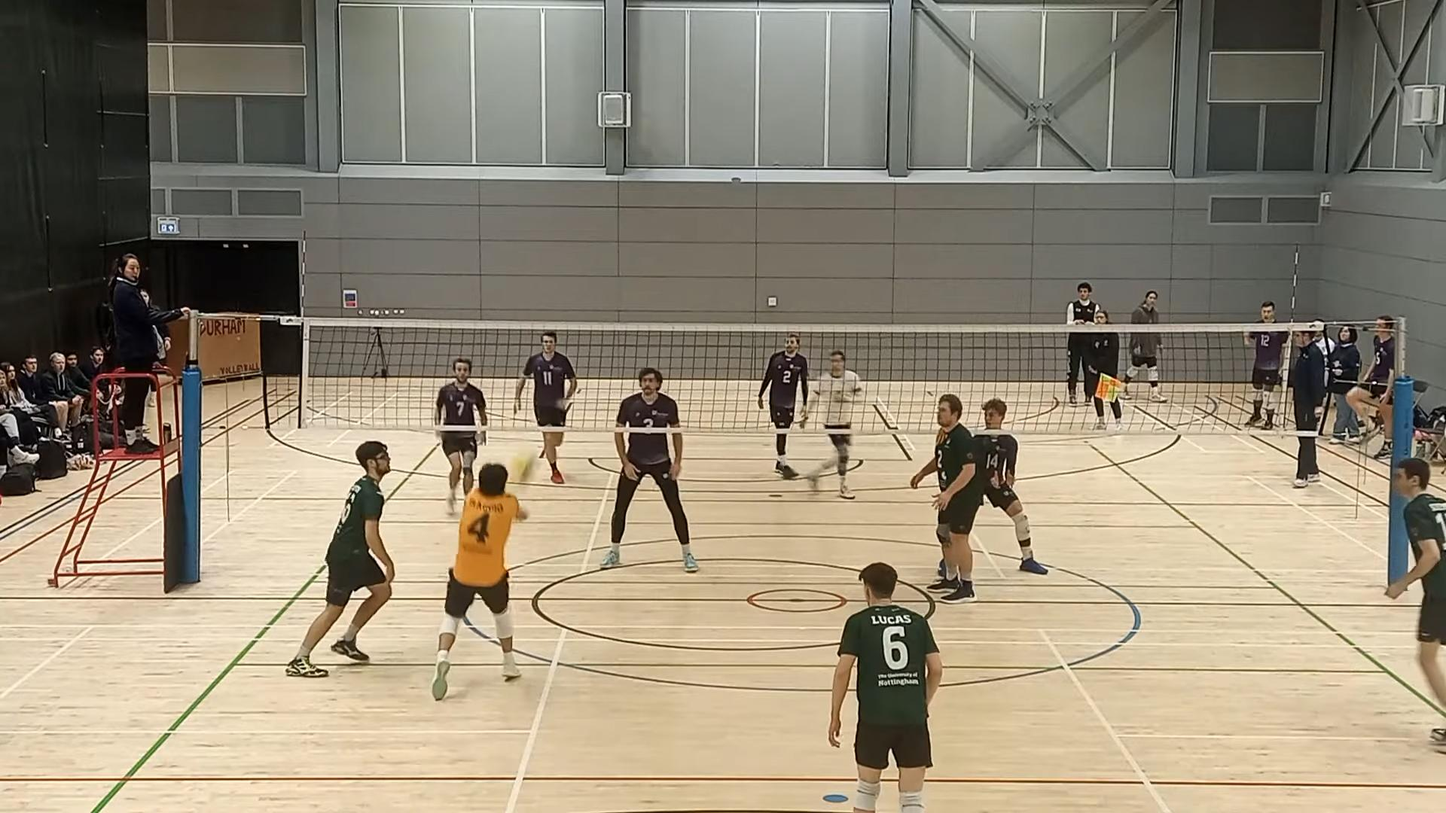Player: (828, 562, 943, 812), (286, 440, 394, 677), (600, 367, 698, 572), (910, 394, 982, 603), (1386, 458, 1445, 703), (975, 398, 1047, 574), (514, 330, 577, 484), (799, 349, 863, 499), (436, 357, 487, 511), (758, 333, 807, 479)
Receive: (429, 462, 530, 703)
